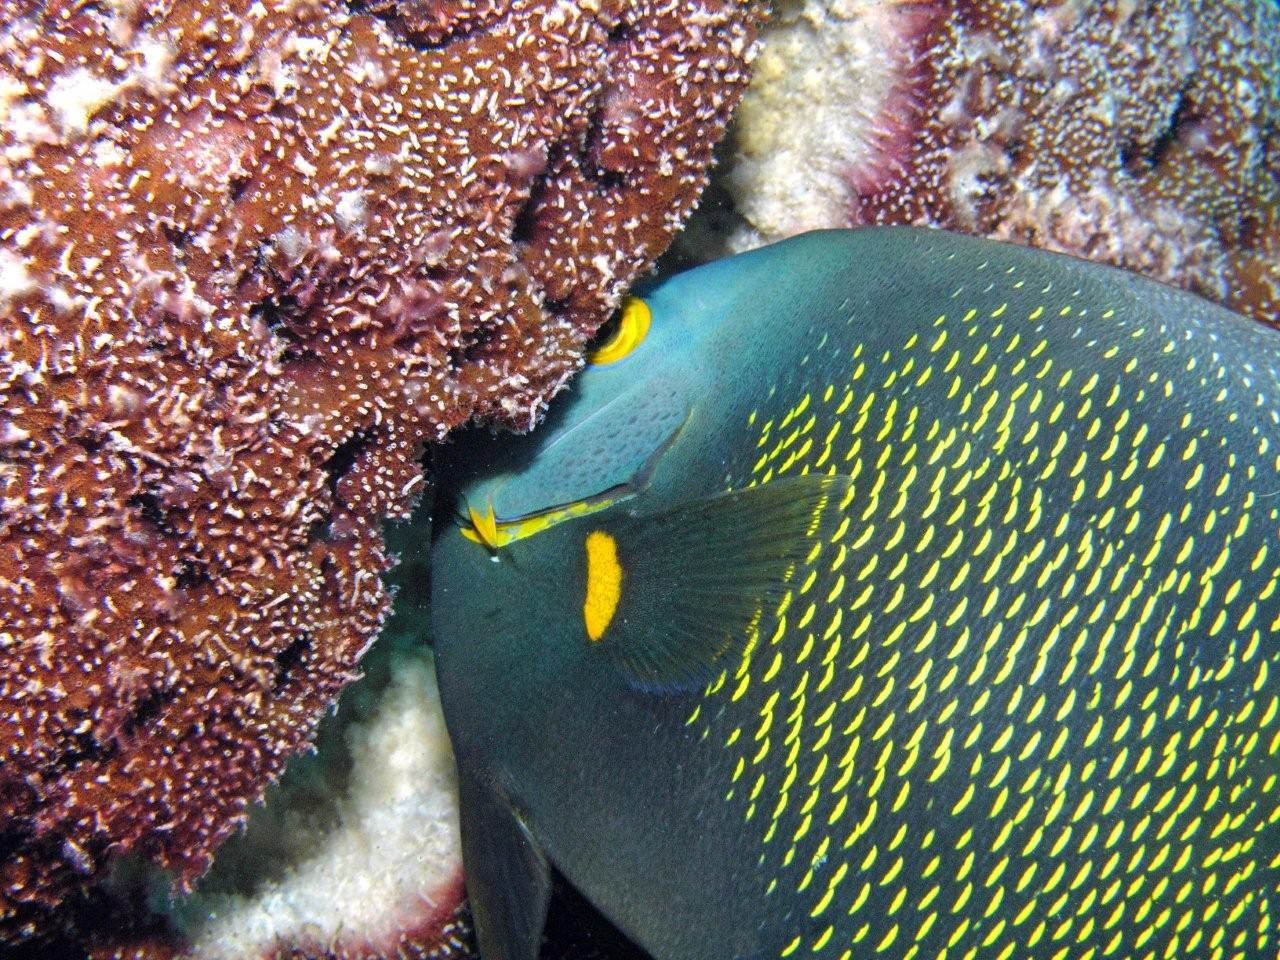Pomacanthus_paru: (420, 230, 1280, 951)
